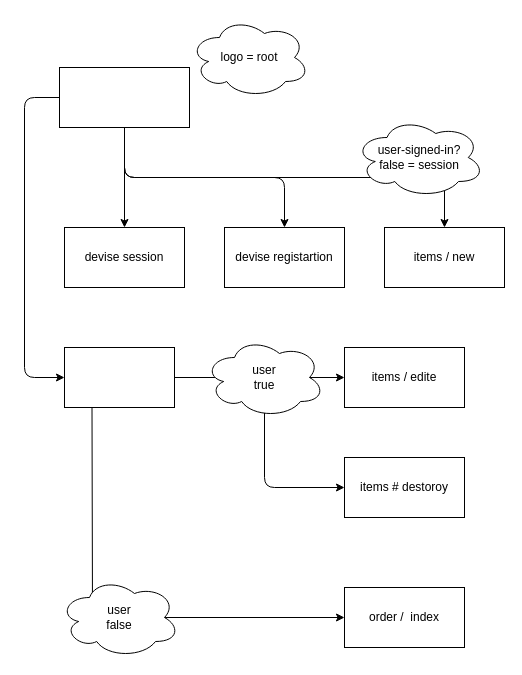
Image size: 522x675. Some labels were removed from this diagram. The shapes that lost their labels are listed below. From the top down, each one's centre as x and y in pixels, then its label:
At pixel 124 97: "root item_index".
At pixel 119 377: "items / show".
